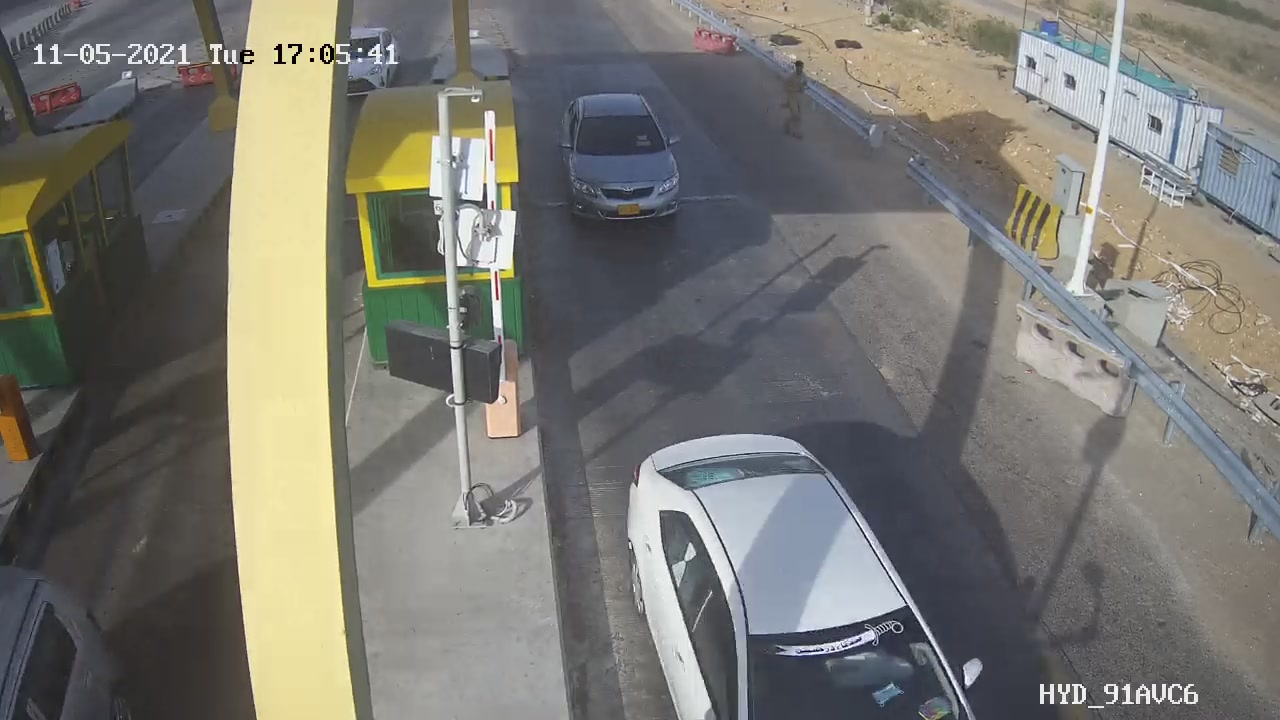F1: (542, 78, 705, 242)
